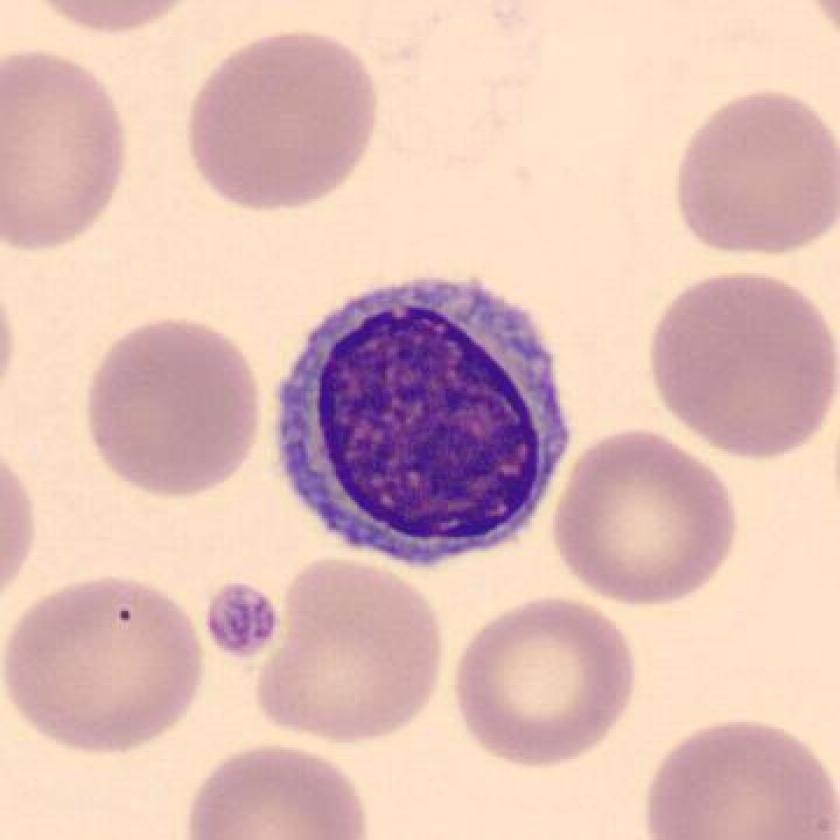lymphocyte: (251, 260, 594, 587)
platelets: (196, 580, 287, 661)
